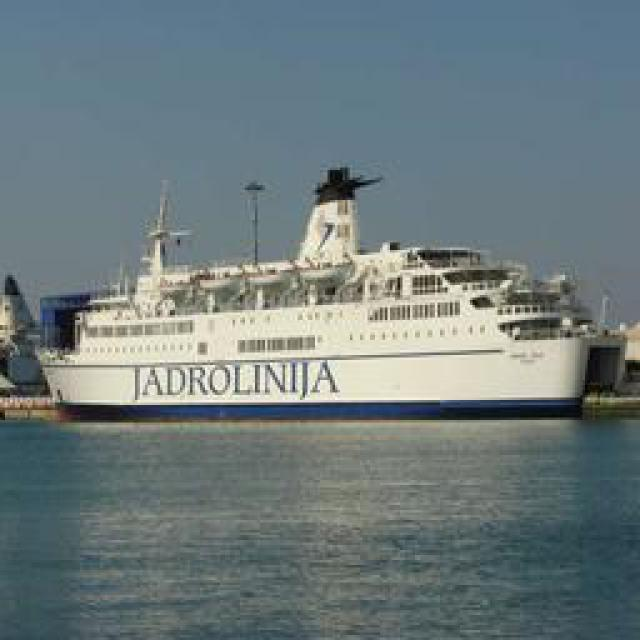Ship: (47, 166, 630, 421)
